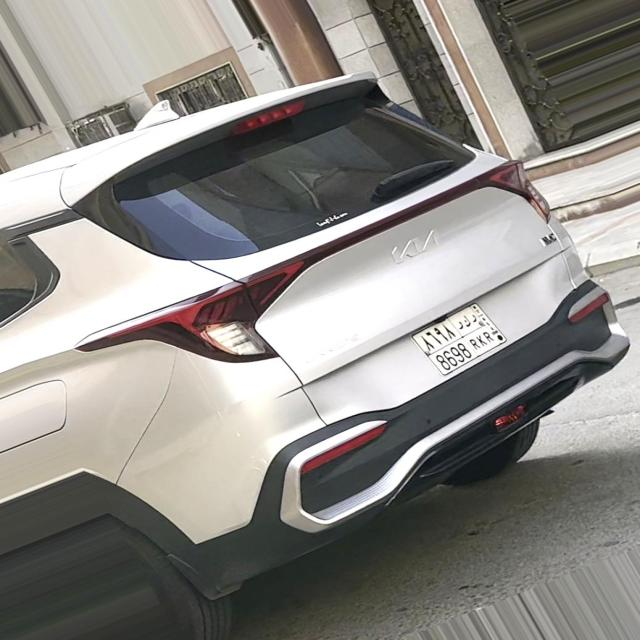Car-plate: (401, 293, 528, 386)
